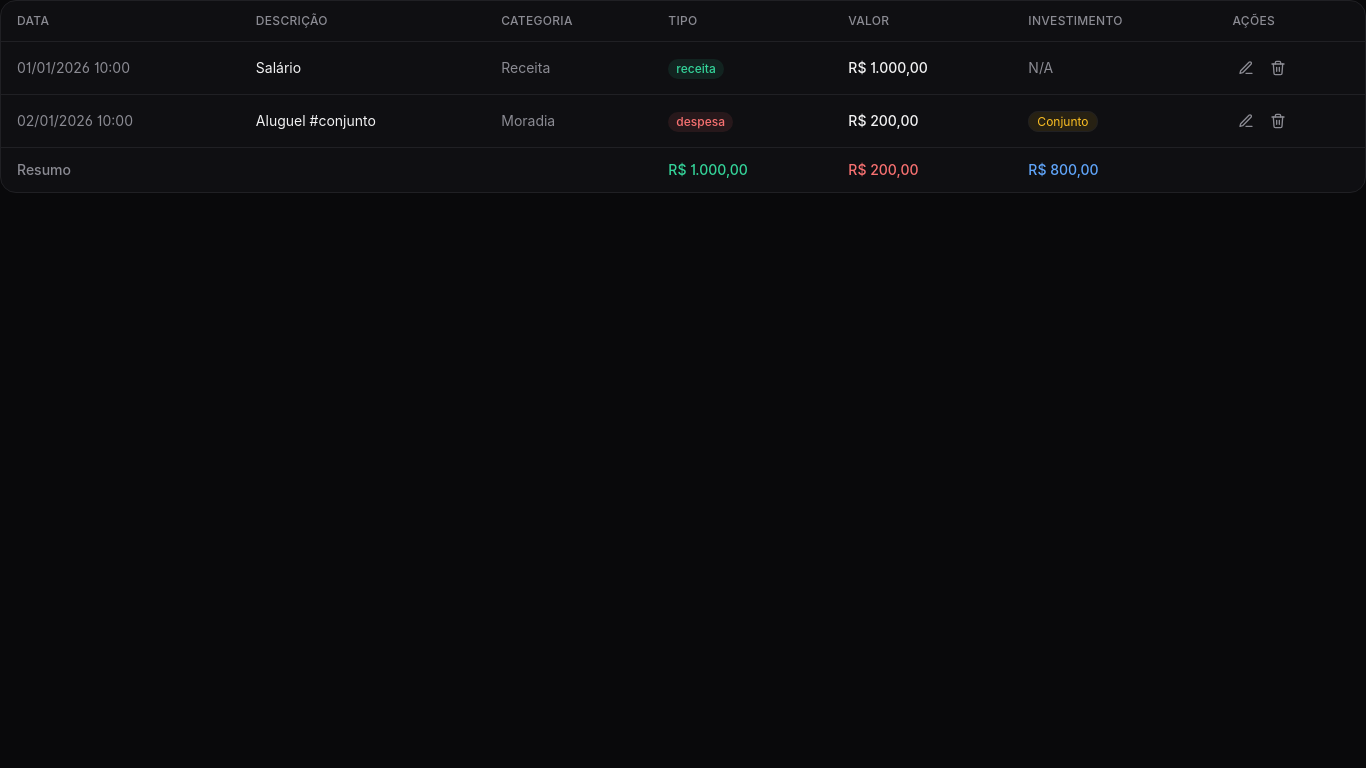
Test: TransactionTable › opens edit modal pre-filled when the edit action is clicked
Click the button named "Editar transação Salário".
click(1246, 68)  # box [1232, 54, 1260, 82]
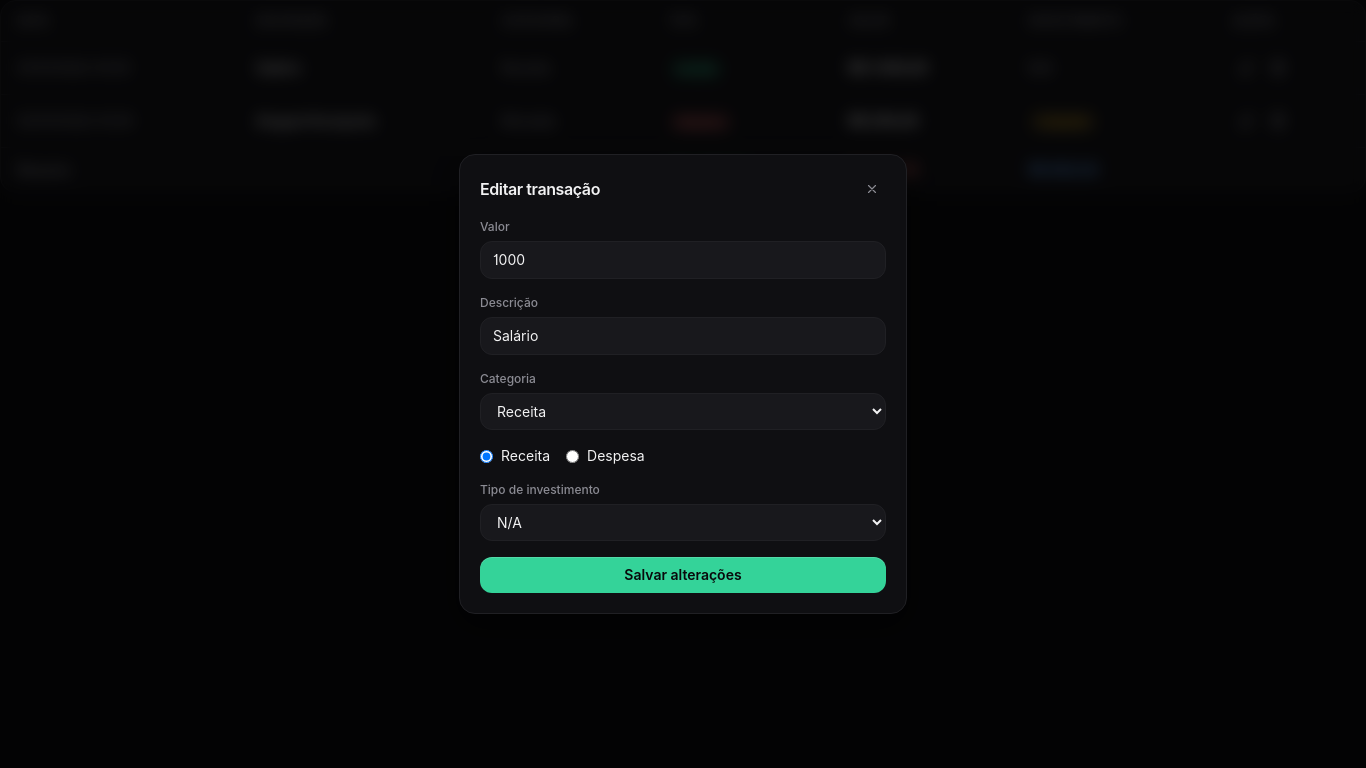
Expected: the dialog "Editar transação" is shown, [459, 154, 907, 614]
Expected: the field showing "Salário" is shown, [480, 317, 886, 355]
